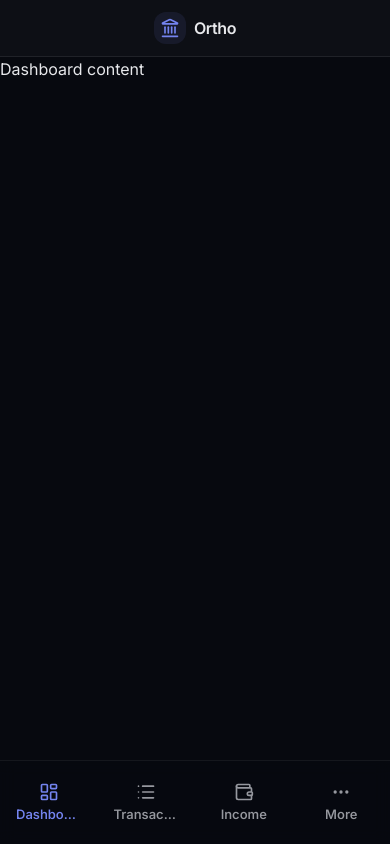
Layout opens More sheet and shows additional nav links
Click the button "More" at (341, 802), box [292,776,389,829]
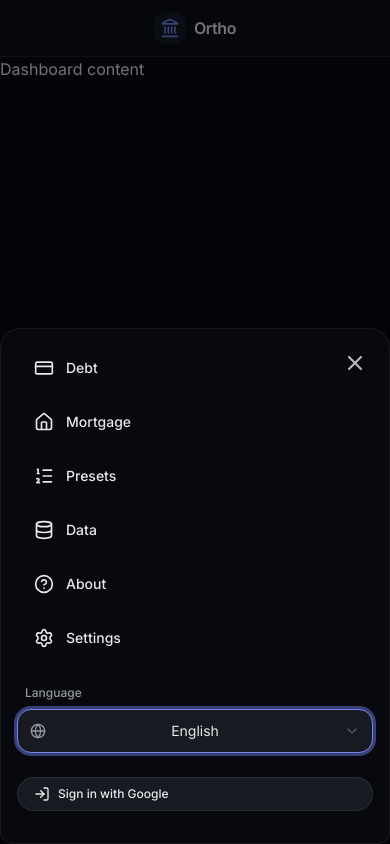
Expected: the link "Debt" is shown, [34,358,98,378]
Expected: the link "Settings" is shown, [34,628,121,648]
